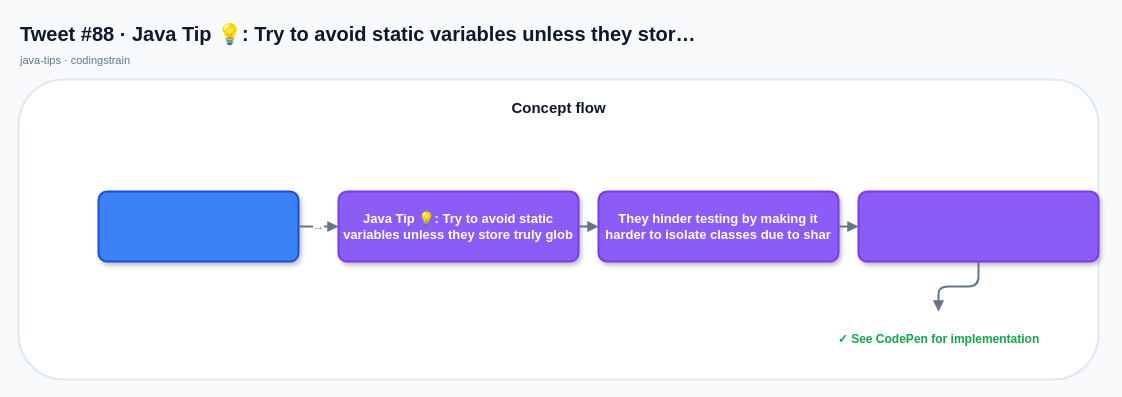
This 1122x397 diagram has some shape labels left out. Each missing label, with the centre of its shape:
"Problem / context" belongs at point (199, 227).
"They reduce code reusability. For example:" belongs at point (979, 227).
